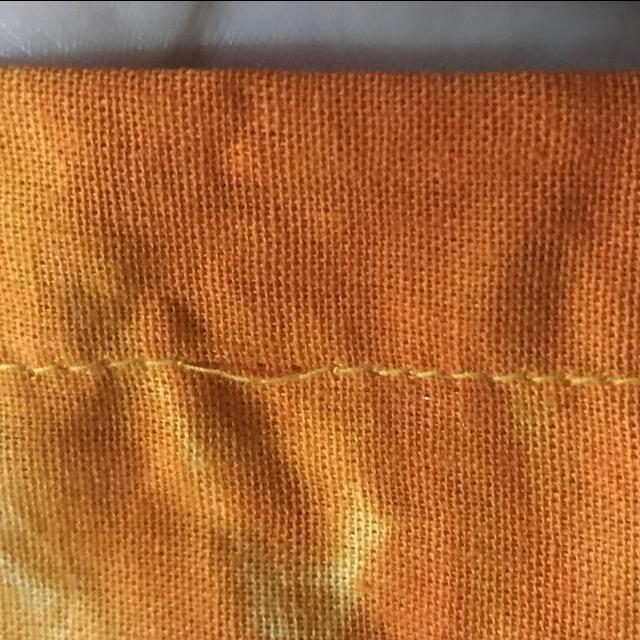Skip: (134, 340, 356, 404)
